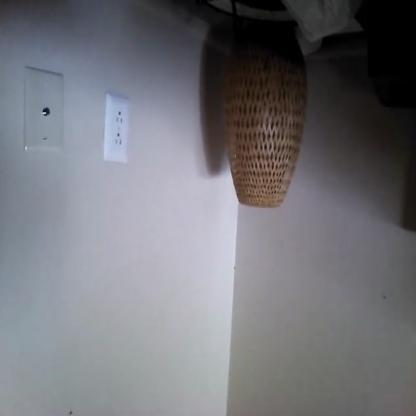OUTLET: (103, 94, 130, 162)
